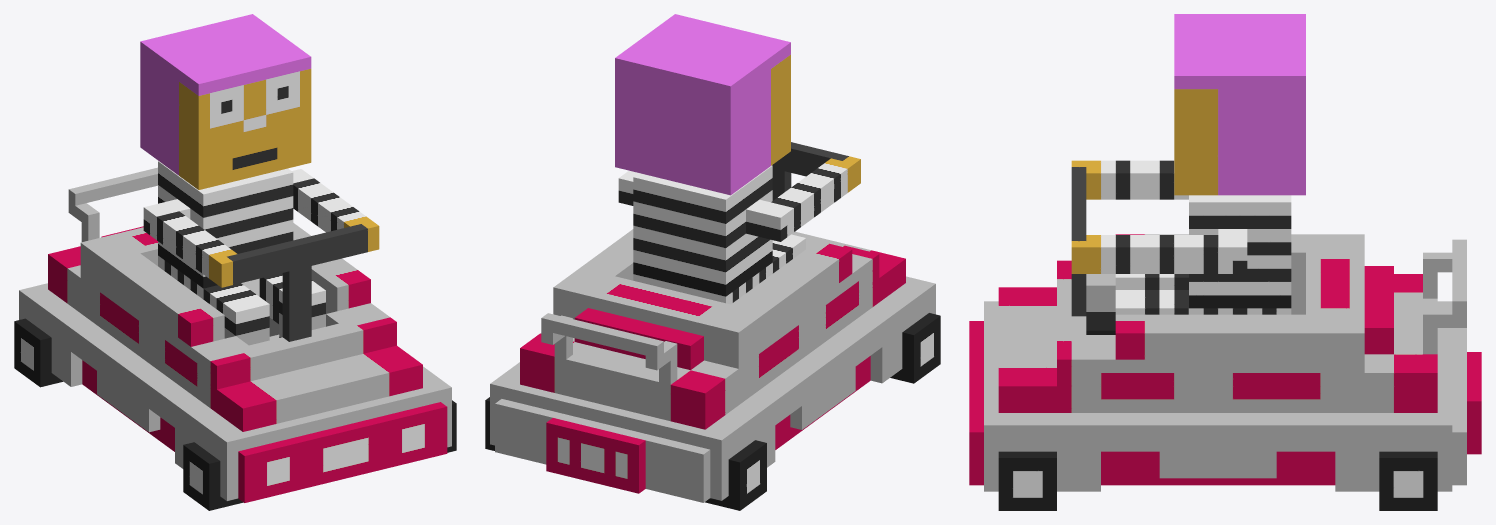
The model's file is Character_9.fbx.
3 renders of one model, left to right at view 1: azimuth 30°, elevation 25°; view 2: azimuth 150°, elevation 25°; view 3: azimuth 270°, elevation 25°, orthographic. The views are drawn at different scales.
Visible parts, largest first — view 1: Character_9; view 2: Character_9; view 3: Character_9.
Part boxes in pixels (box(x1,y1,x2,y2)): Character_9: box(14, 14, 456, 510); Character_9: box(485, 14, 940, 510); Character_9: box(969, 14, 1481, 510).
Size of the model in its own units: 22 by 30 by 35.
1 material, 1 textured.
